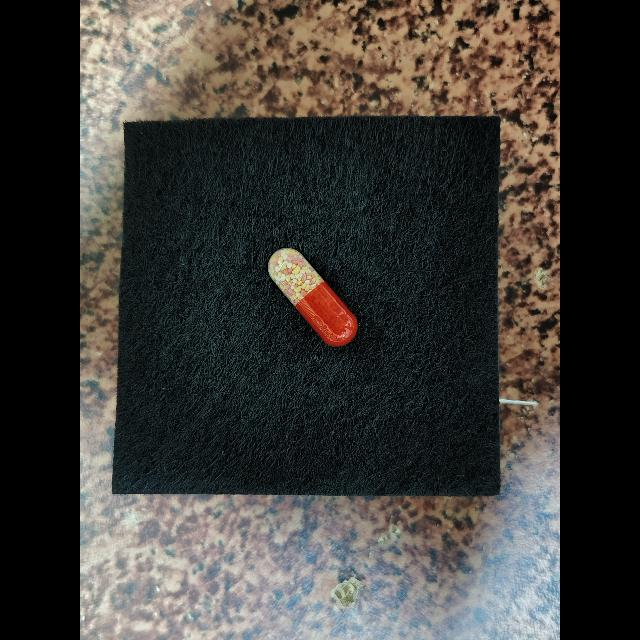Intact Capsule: (268, 248, 358, 346)
